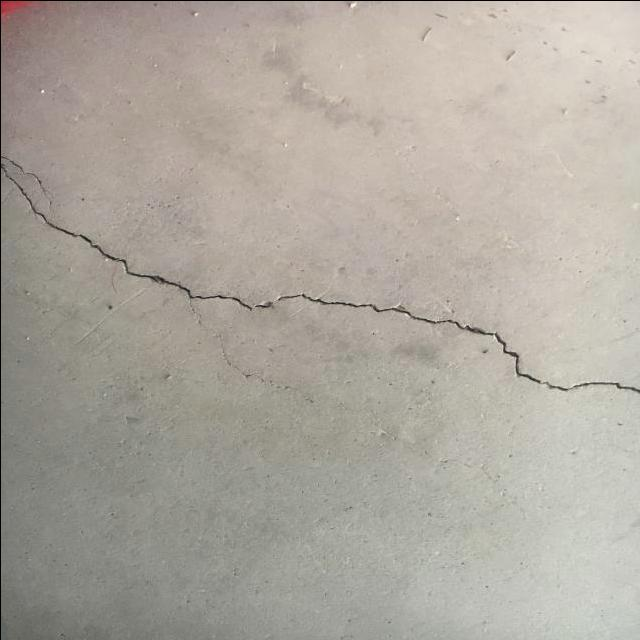SurfaceCrack: (0, 118, 639, 436)
